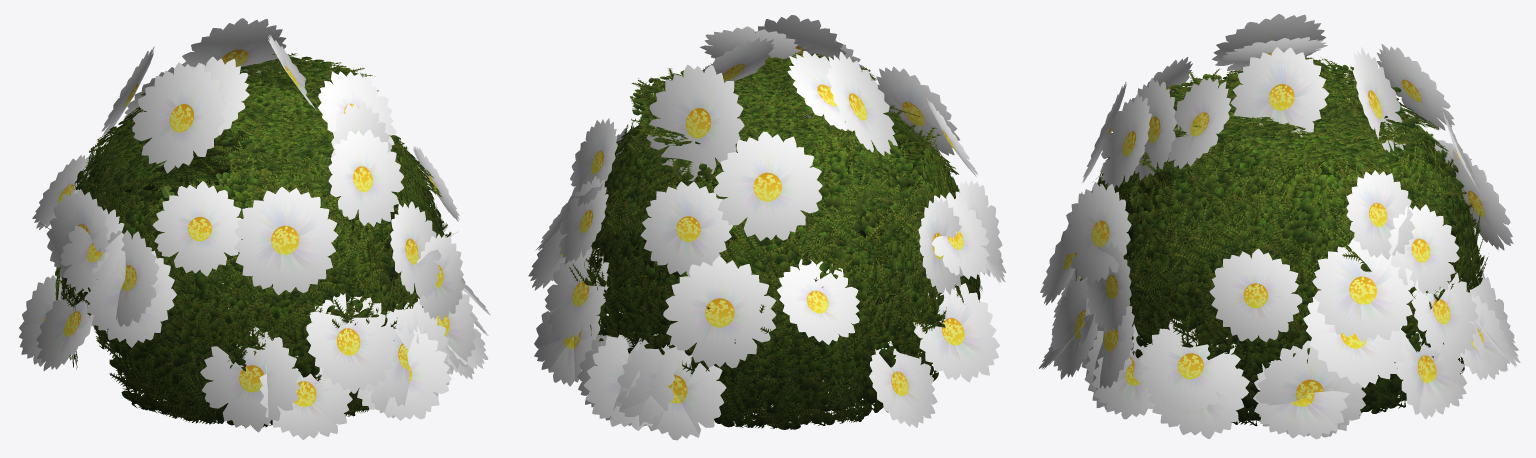
The model's file is mm7_deco_flower10.glb.
3 renders of one model, left to right at view 1: azimuth 30°, elevation 25°; view 2: azimuth 150°, elevation 25°; view 3: azimuth 270°, elevation 25°, orthographic. The views are drawn at different scales.
Visible parts, largest first — view 1: Plant; view 2: Plant; view 3: Plant.
Part boxes in pixels (bbox=[...]): Plant: bbox=[19, 18, 490, 439]; Plant: bbox=[528, 15, 1006, 440]; Plant: bbox=[1039, 14, 1520, 439].
Bounding box in the file's own units: 1.55 × 1.08 × 1.51.
1 material, 1 textured.
